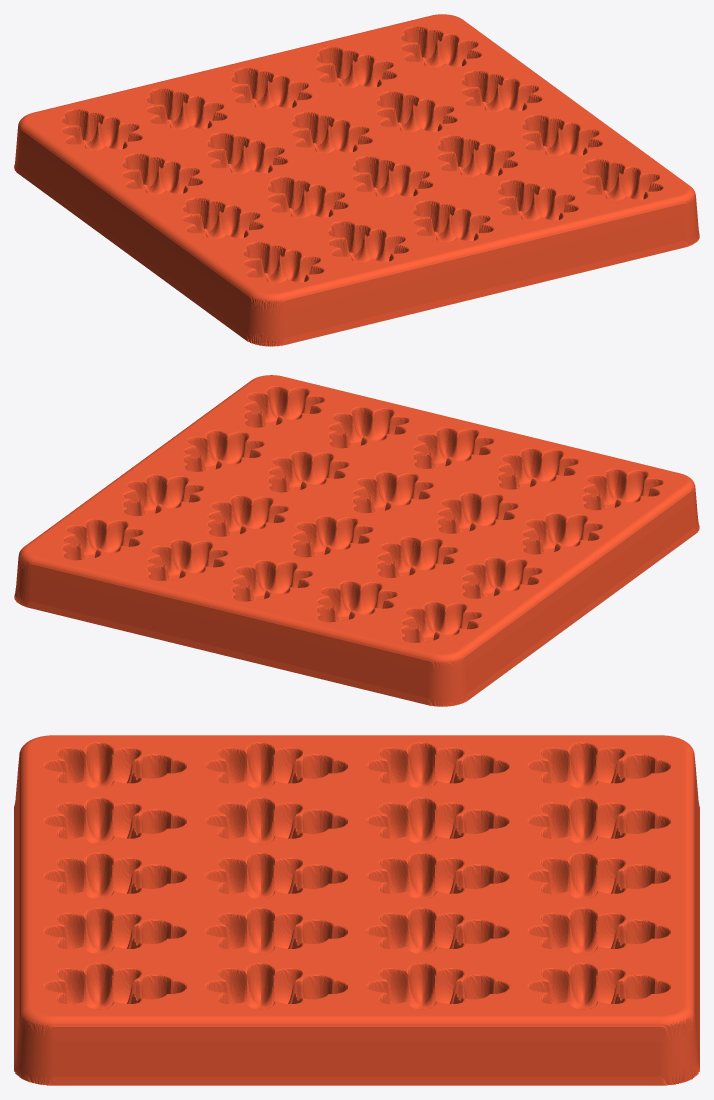
Rendered from mold.glb.
3 renders of one model, top to bottom at view 1: azimuth 30°, elevation 25°; view 2: azimuth 150°, elevation 25°; view 3: azimuth 270°, elevation 25°, orthographic. The views are drawn at different scales.
Parts seen in each view (by area): view 1: geometry_0; view 2: geometry_0; view 3: geometry_0.
Part boxes in pixels (<box>): geometry_0: <box>14,14,699,346</box>; geometry_0: <box>14,375,699,706</box>; geometry_0: <box>14,735,699,1085</box>.
Size of the model in its own units: 0.1579 by 0.0159 by 0.1563.
